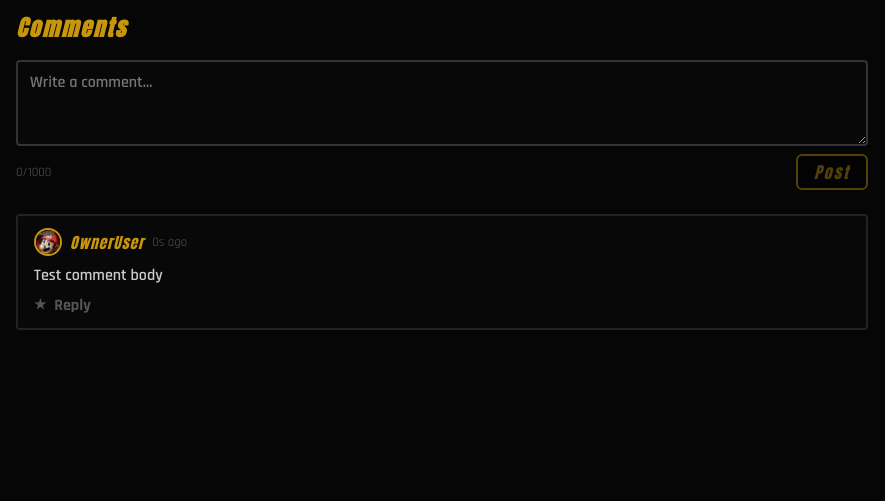
Test: CommentSection — logged-in as different user › Reply button toggles to Cancel
Click the button "Reply": (72, 305) [54,295,91,316]
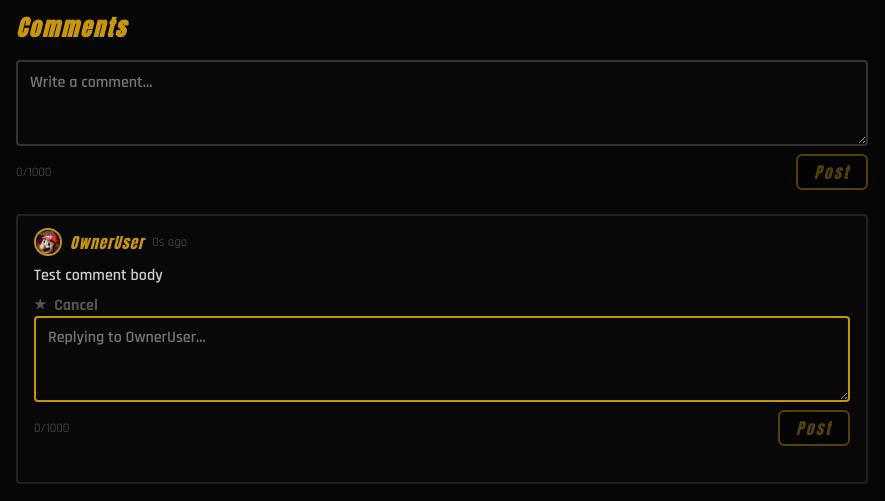
Check: the button "Cancel" is shown, box [54,295,98,316]
